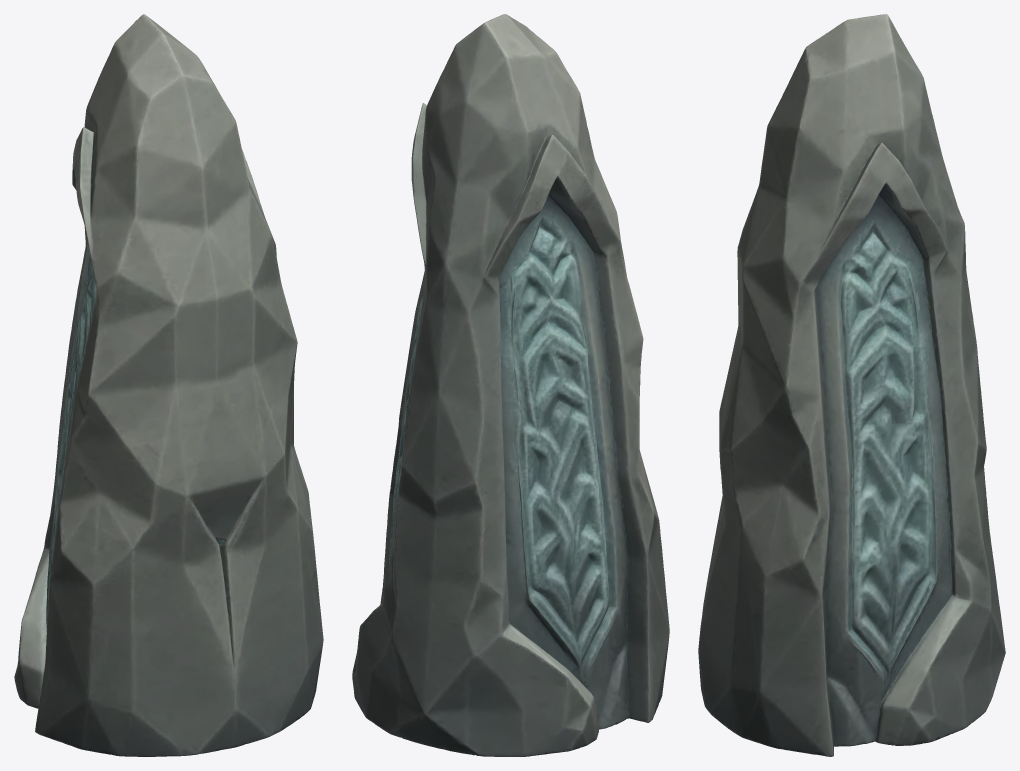
File: runestone.glb
3 renders of one model, left to right at view 1: azimuth 30°, elevation 25°; view 2: azimuth 150°, elevation 25°; view 3: azimuth 270°, elevation 25°, orthographic. The views are drawn at different scales.
Visible parts, largest first — view 1: world; view 2: world; view 3: world.
Boxes of the visible parts, x1,y1,x2,y2 form: world: [14, 14, 323, 756]; world: [352, 14, 669, 756]; world: [698, 14, 1005, 756].
Bounding box in the file's own units: 0.421 × 1 × 0.412.
Materials: 1 (1 with a texture image).
